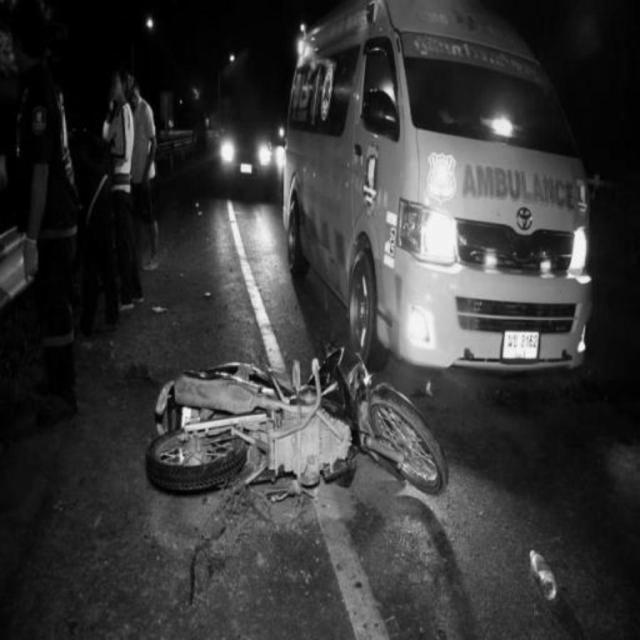person: (21, 83, 98, 408), (97, 74, 157, 302)
vehicle: (279, 0, 597, 371), (137, 345, 461, 492)
